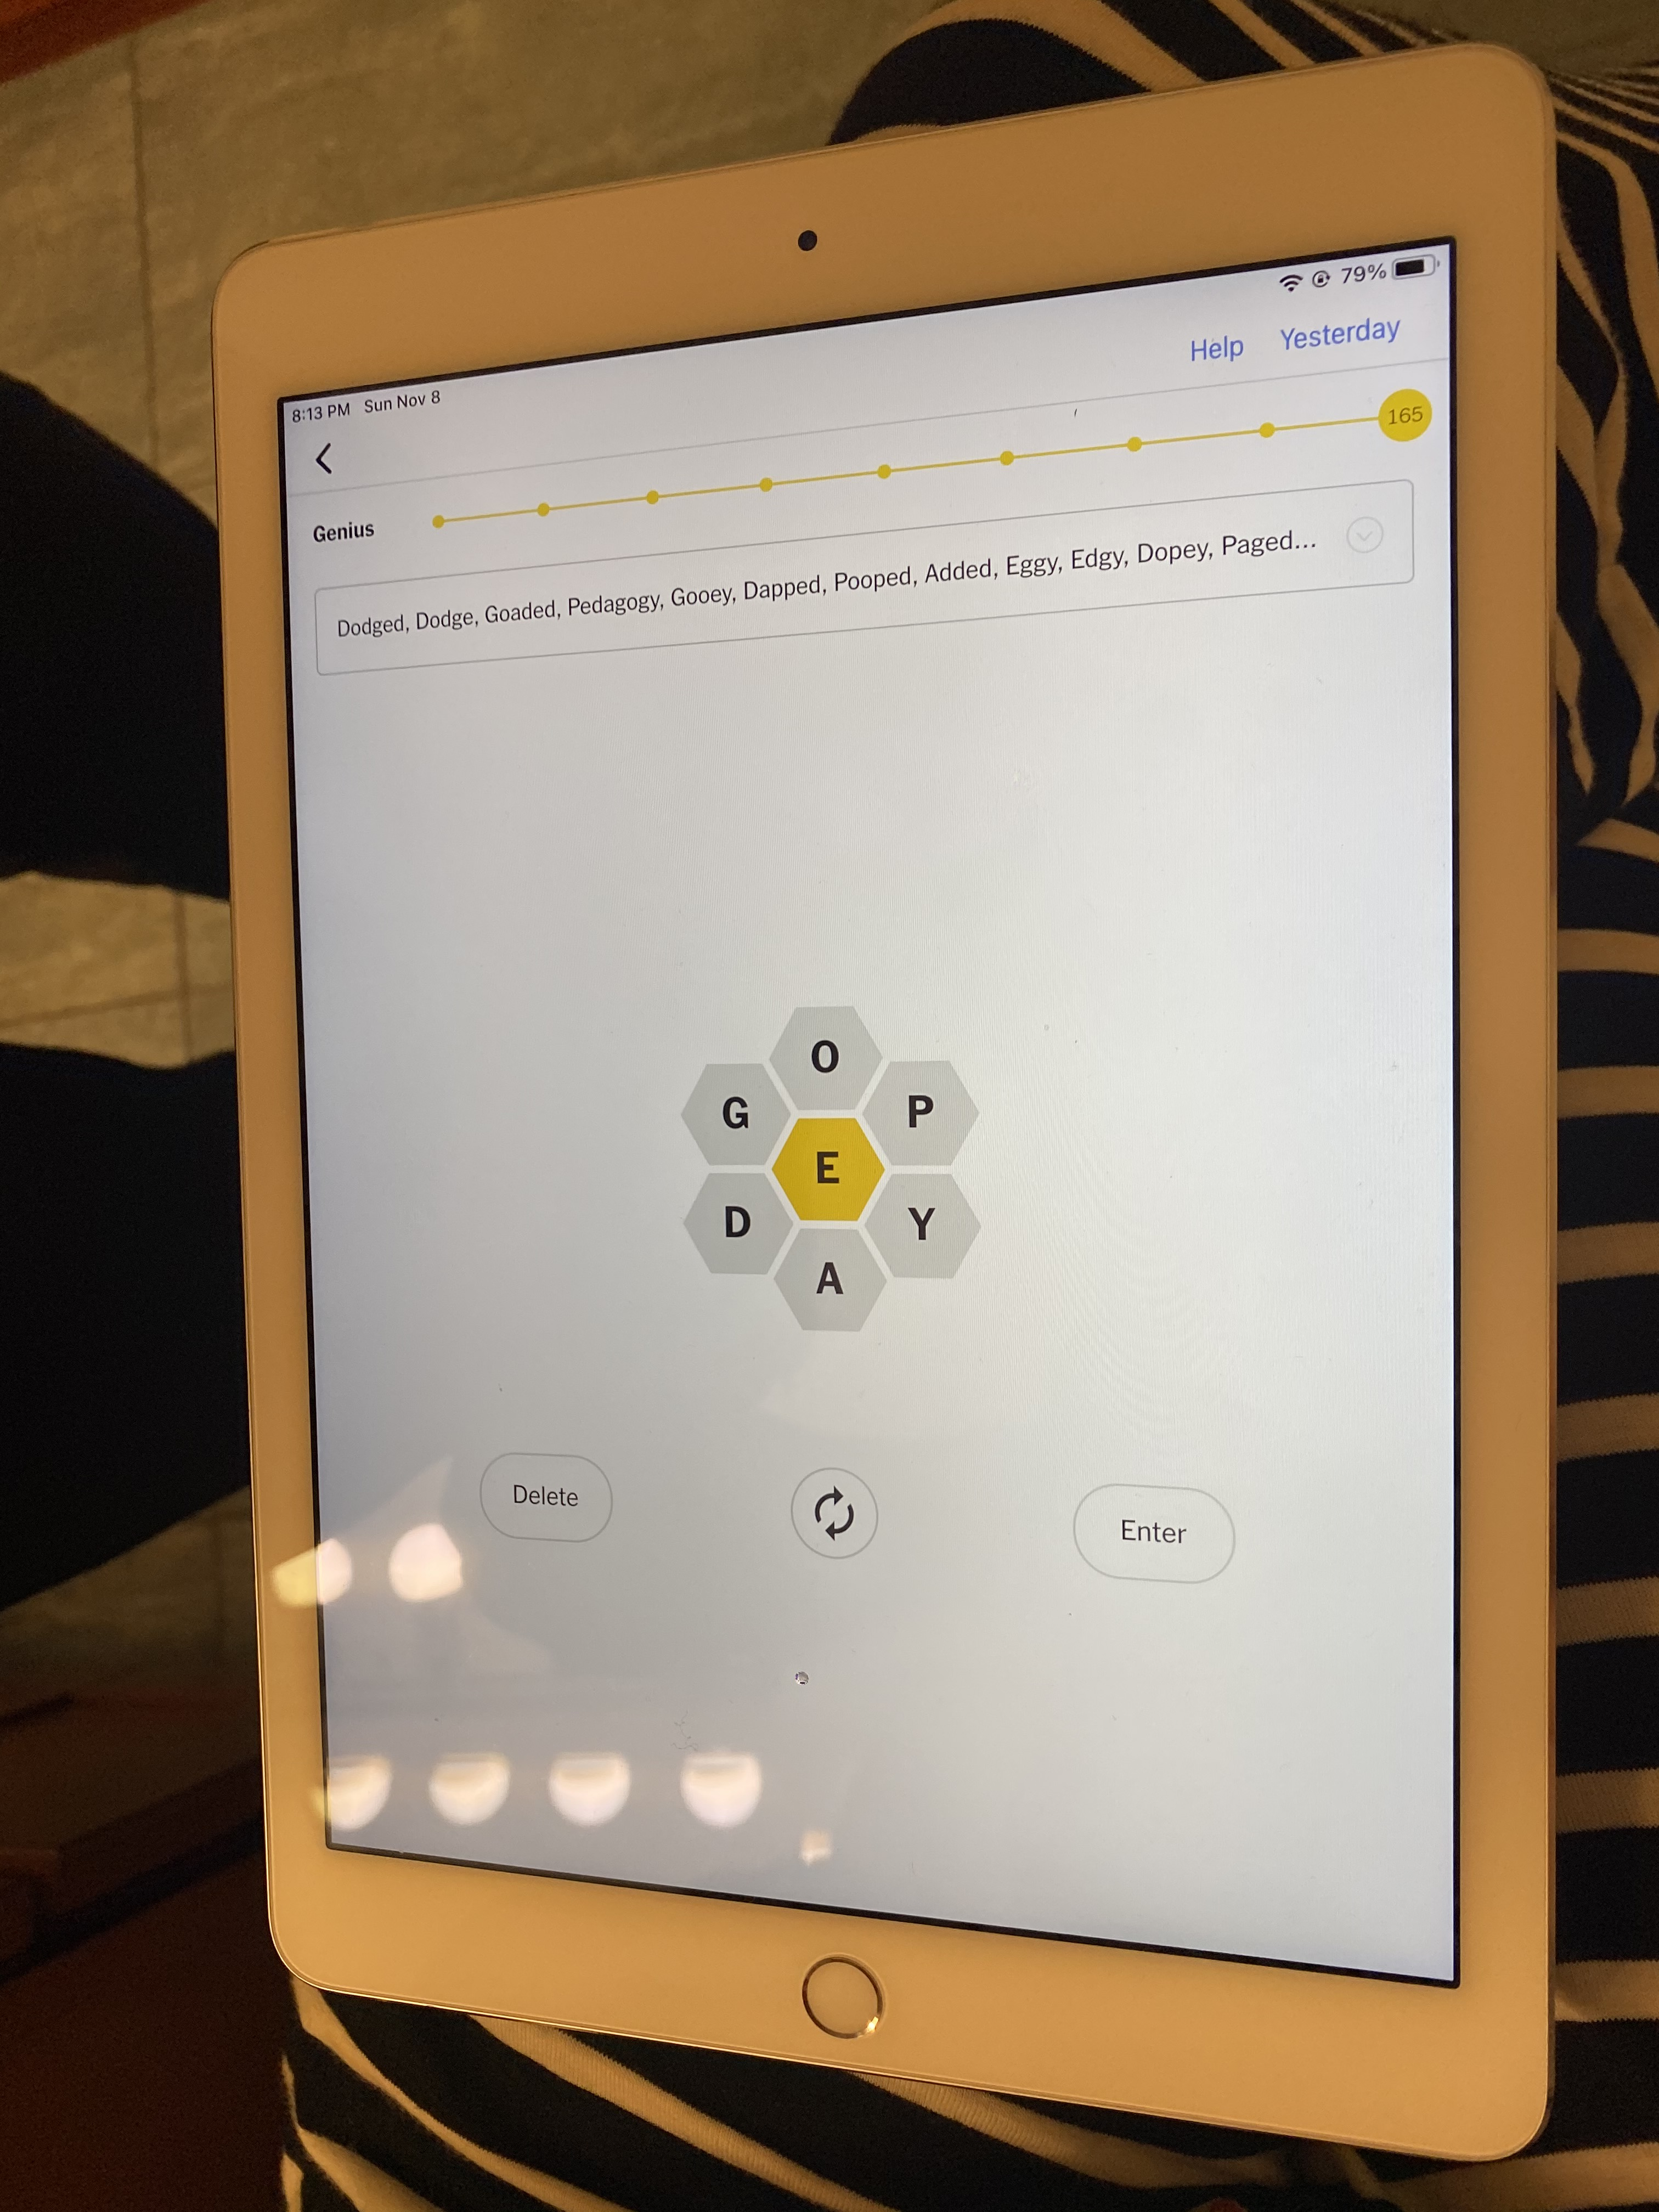Board: (657, 989, 999, 1352)
